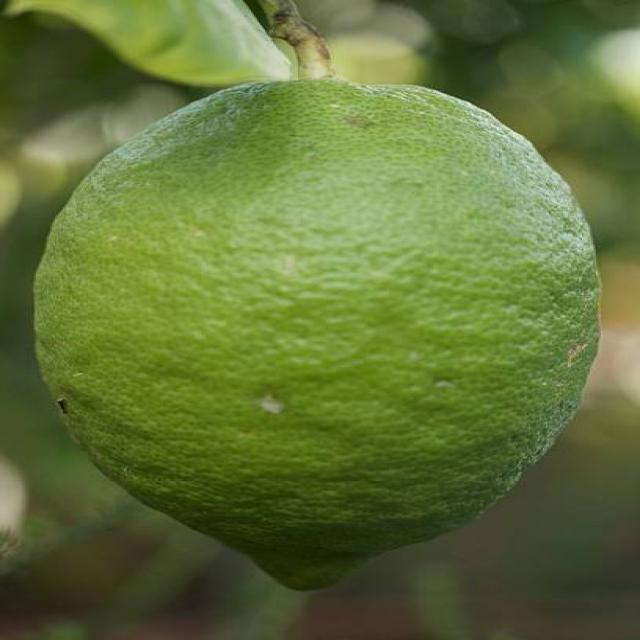Lemon: (29, 73, 601, 596)
